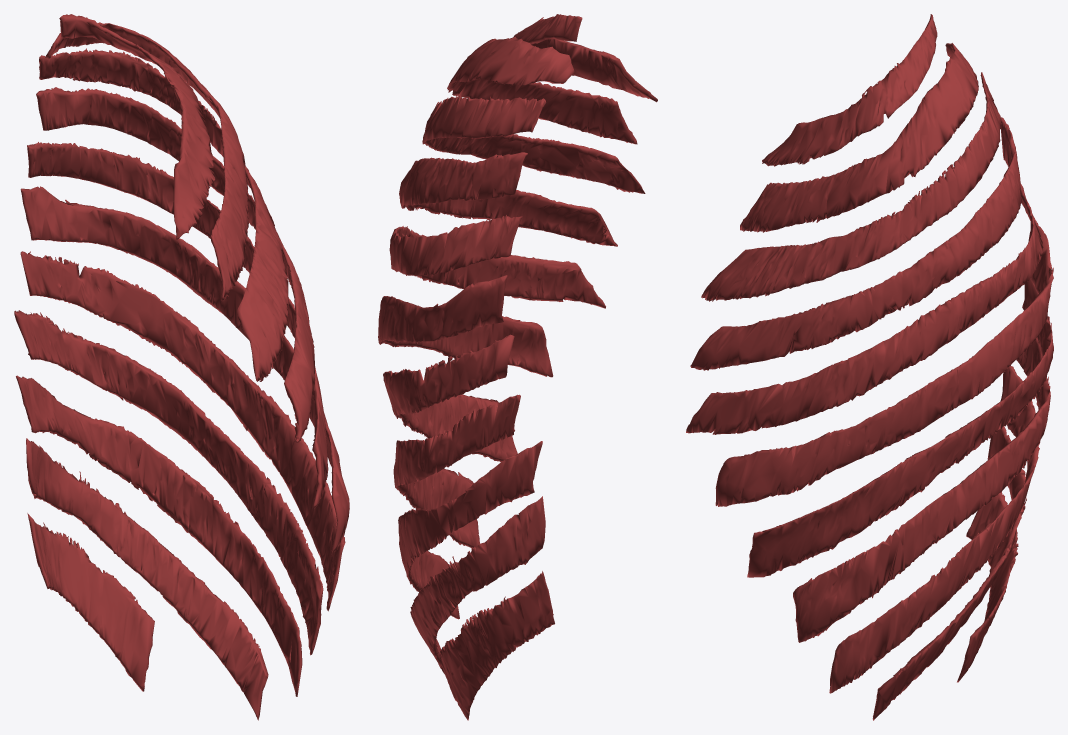
The model's file is external-intercostal-muscles-l.glb.
3 renders of one model, left to right at view 1: azimuth 30°, elevation 25°; view 2: azimuth 150°, elevation 25°; view 3: azimuth 270°, elevation 25°, orthographic. The views are drawn at different scales.
Parts seen in each view (by area): view 1: External intercostal muscles.l; view 2: External intercostal muscles.l; view 3: External intercostal muscles.l.
Boxes of the visible parts, x1,y1,x2,y2 form: External intercostal muscles.l: (14,14,349,720); External intercostal muscles.l: (378,14,657,720); External intercostal muscles.l: (686,14,1053,720).
Bounding box in the file's own units: 0.1118 × 0.3722 × 0.1949.
